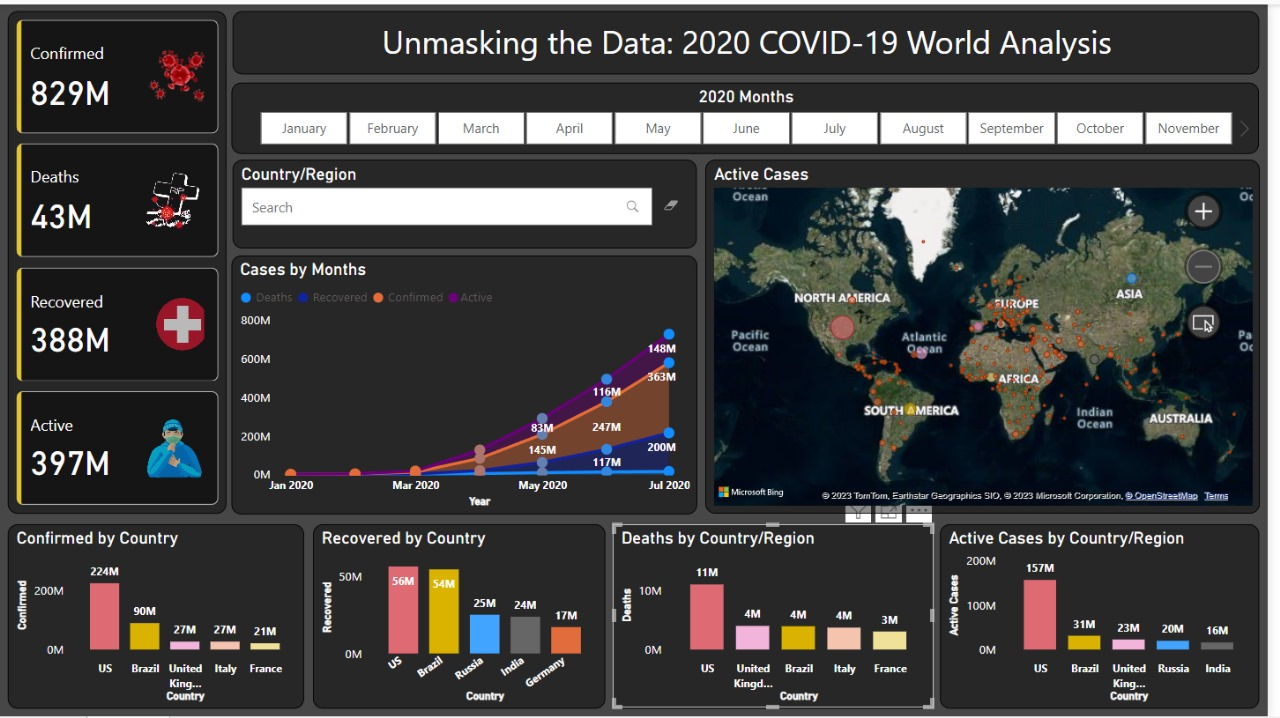

What the dashboard file says about the page in this screenshot:
{"tool":"powerbi","page":{"name":"Page 1","canvas":[1280,720],"ordinal":0},"visuals":[{"type":"cardVisual","fields":{"Data":["Sum(covid_19_clean_complete.Confirmed)","Sum(covid_19_clean_complete.Deaths)","Sum(covid_19_clean_complete.Recovered)","Sum(covid_19_clean_complete.Active)"]},"box":[7.8,6.9,220.7,507.7],"z":0},{"type":"columnChart","fields":{"Category":["covid_19_clean_complete.Country/Region"],"Y":["Sum(covid_19_clean_complete.Deaths)"]},"box":[619.1,524.8,323.6,186.6],"z":1000},{"type":"columnChart","fields":{"Category":["covid_19_clean_complete.Country/Region"],"Y":["Sum(covid_19_clean_complete.Confirmed)"]},"box":[7.8,524.8,299.3,186.6],"z":2000},{"type":"columnChart","fields":{"Category":["covid_19_clean_complete.Country/Region"],"Y":["Sum(covid_19_clean_complete.Recovered)"]},"box":[315.9,524.8,295.5,186.6],"z":3000},{"type":"columnChart","fields":{"Category":["covid_19_clean_complete.Country/Region"],"Y":["Sum(covid_19_clean_complete.Active)"]},"box":[949.6,524.8,322.7,186.6],"z":4000},{"type":"stackedAreaChart","title":"Cases by Months","fields":{"Category":["covid_19_clean_complete.Date.Variation.Date Hierarchy.Year","covid_19_clean_complete.Date.Variation.Date Hierarchy.Quarter","covid_19_clean_complete.Date.Variation.Date Hierarchy.Month"],"Y":["Sum(covid_19_clean_complete.Deaths)","Sum(covid_19_clean_complete.Recovered)","Sum(covid_19_clean_complete.Confirmed)","Sum(covid_19_clean_complete.Active)"]},"box":[234.2,253.4,470.1,261.2],"z":5000},{"type":"map","title":"Active  Cases","fields":{"Category":["covid_19_clean_complete.Country/Region"],"Y":["Avg(covid_19_clean_complete.Lat)"],"X":["Avg(covid_19_clean_complete.Long)"],"Size":["Sum(covid_19_clean_complete.Active)"]},"box":[712.1,157.3,560.1,357.4],"z":6000},{"type":"textFilter25A4896A83E0487089E2B90C9AE57C8A","fields":{"field":["covid_19_clean_complete.Country/Region"]},"box":[235,157.3,469.2,90],"z":7000},{"type":"slicer","title":"2020 Months","fields":{"Values":["covid_19_clean_complete.Date.Variation.Date Hierarchy.Month"]},"box":[234.2,78.6,1038,71.6],"z":8000},{"type":"textbox","box":[235,7,1037.1,63.8],"z":9000}]}

Visuals, with their boxes in screenshot pixels (x1, y1, x2, y2), scaled from the page's 1280x720 canvas onto the 1280x718 screenshot:
cardVisual - Sum(covid_19_clean_complete.Confirmed) x Sum(covid_19_clean_complete.Deaths): Rect(8, 7, 228, 513)
columnChart - covid_19_clean_complete.Country/Region x Sum(covid_19_clean_complete.Deaths): Rect(619, 523, 943, 709)
columnChart - covid_19_clean_complete.Country/Region x Sum(covid_19_clean_complete.Confirmed): Rect(8, 523, 307, 709)
columnChart - covid_19_clean_complete.Country/Region x Sum(covid_19_clean_complete.Recovered): Rect(316, 523, 611, 709)
columnChart - covid_19_clean_complete.Country/Region x Sum(covid_19_clean_complete.Active): Rect(950, 523, 1272, 709)
"Cases by Months" stackedAreaChart: Rect(234, 253, 704, 513)
"Active  Cases" map: Rect(712, 157, 1272, 513)
textFilter25A4896A83E0487089E2B90C9AE57C8A - covid_19_clean_complete.Country/Region: Rect(235, 157, 704, 247)
"2020 Months" slicer: Rect(234, 78, 1272, 150)
textbox: Rect(235, 7, 1272, 71)
